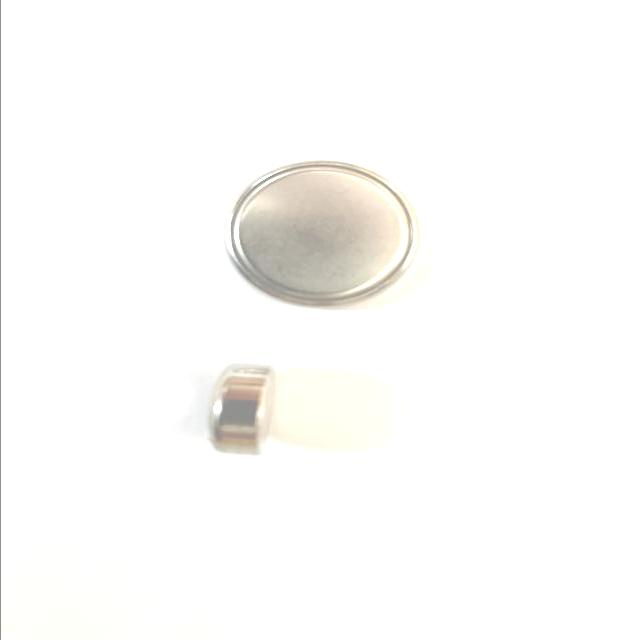COIN: (223, 156, 422, 308), (207, 360, 280, 461)
